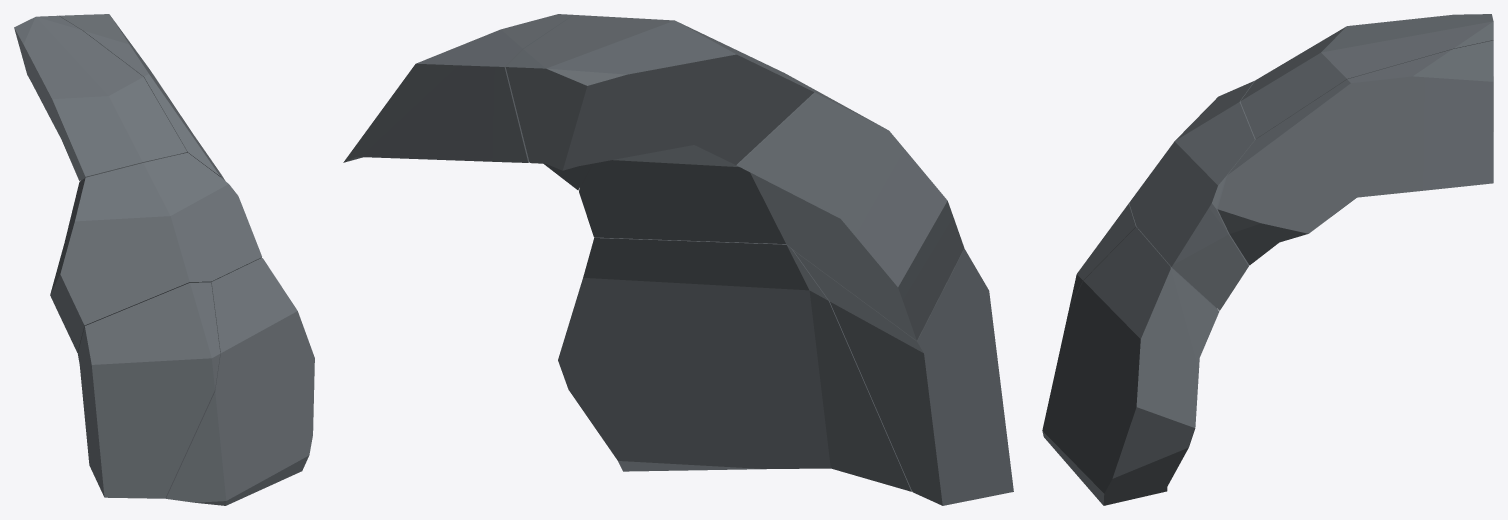
File: Sphere_Fracture_08.DAE
The picture shows the model from 3 angles, left to right: view 1: azimuth 30°, elevation 25°; view 2: azimuth 150°, elevation 25°; view 3: azimuth 270°, elevation 25°; orthographic projection. The views are drawn at different scales.
Parts seen in each view (by area): view 1: Sphere_Fracture_08; view 2: Sphere_Fracture_08; view 3: Sphere_Fracture_08.
Part boxes in pixels (x1=…): Sphere_Fracture_08: x1=14, y1=14, x2=314, y2=505; Sphere_Fracture_08: x1=343, y1=14, x2=1013, y2=505; Sphere_Fracture_08: x1=1042, y1=14, x2=1493, y2=505.
Bounding box in the file's own units: 0.8229 × 1.23 × 1.18.
Materials: 2 (2 with a texture image).
